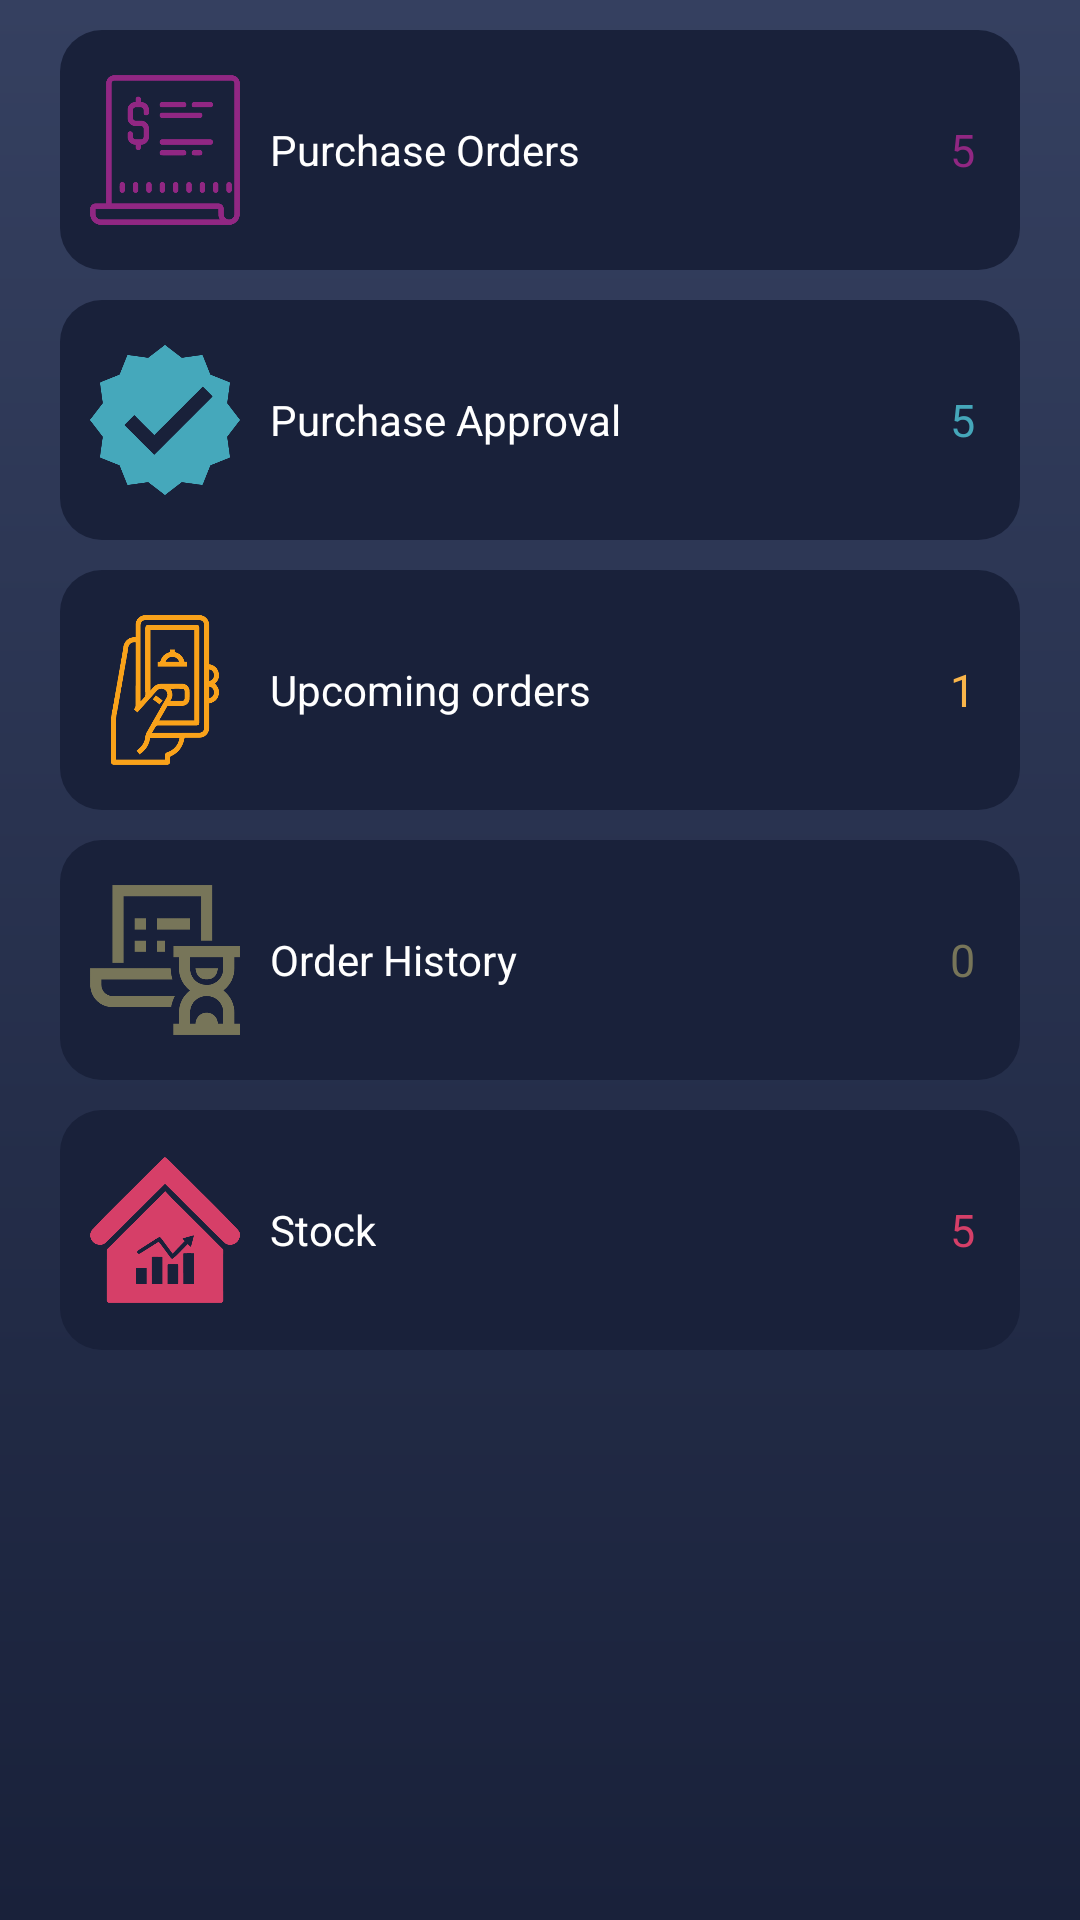

Screen size 1080 × 1920. Icon name, then its box in pixels as (x1, y1, x2, y2):
purchases: (90, 75, 240, 225)
